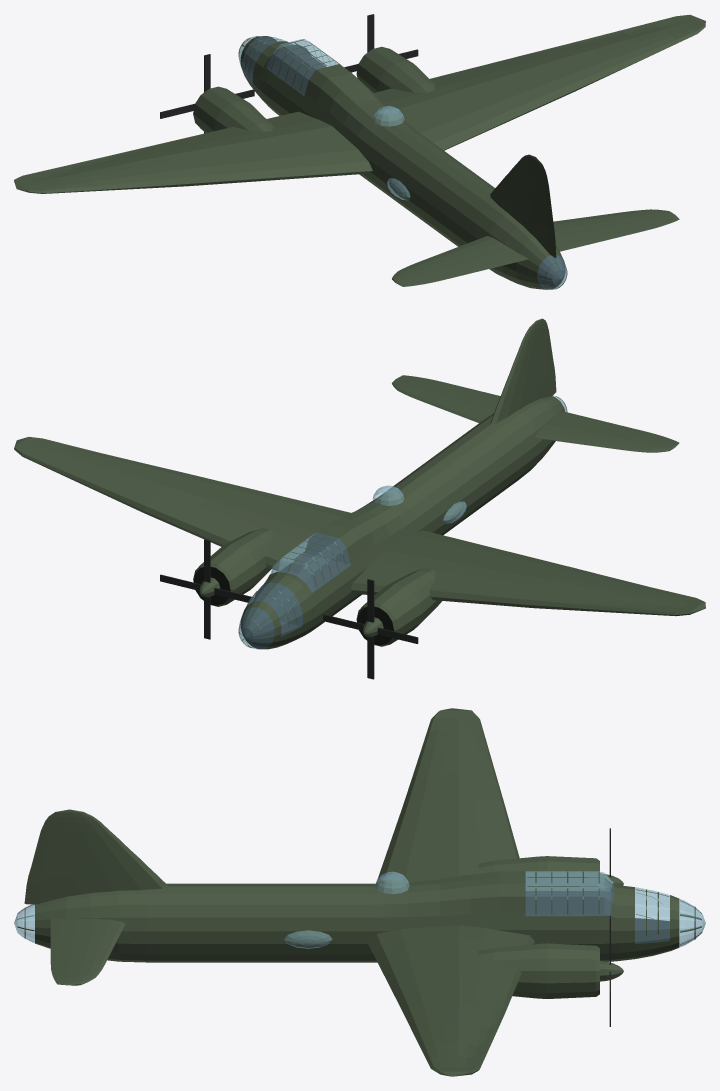
3 renders of one model, top to bottom at view 1: azimuth 30°, elevation 25°; view 2: azimuth 150°, elevation 25°; view 3: azimuth 270°, elevation 25°, orthographic. The views are drawn at different scales.
Visible parts, largest first — view 1: G4M_Wing, G4M_Fuselage, G4M_Tailplane, G4M_Fin, G4M_NacelleL, G4M_NacelleR, G4M_Canopy, G4M_TailGlass, G4M_Frames, G4M_NoseGlass2, G4M_Prop2, G4M_Turret (+1 smaller); view 2: G4M_Wing, G4M_Fuselage, G4M_Tailplane, G4M_Fin, G4M_NacelleL, G4M_NacelleR, G4M_Canopy, G4M_NoseGlass2, G4M_Prop2, G4M_Prop1, G4M_NoseGlass, G4M_Frames; view 3: G4M_Fuselage, G4M_Wing, G4M_Fin, G4M_NacelleR, G4M_Tailplane, G4M_Canopy, G4M_NacelleL, G4M_NoseGlass2, G4M_Frames, G4M_NoseGlass, G4M_BlisterR, G4M_Turret (+1 smaller).
Boxes of the visible parts, box(x1,y1,x2,y2) form: G4M_Wing: box(14, 14, 705, 193); G4M_Fuselage: box(240, 36, 565, 289); G4M_Tailplane: box(392, 209, 679, 286); G4M_Fin: box(490, 154, 556, 257); G4M_NacelleL: box(193, 86, 273, 132); G4M_NacelleR: box(356, 46, 435, 92); G4M_Canopy: box(266, 39, 338, 95); G4M_TailGlass: box(537, 255, 566, 289); G4M_Frames: box(238, 36, 567, 289); G4M_NoseGlass2: box(242, 36, 285, 83); G4M_Prop2: box(160, 54, 254, 133); G4M_Turret: box(372, 106, 404, 126); G4M_Wing: box(14, 437, 705, 616); G4M_Fuselage: box(240, 396, 565, 649); G4M_Tailplane: box(392, 375, 679, 452); G4M_Fin: box(490, 318, 556, 424); G4M_NacelleL: box(356, 567, 441, 646); G4M_NacelleR: box(193, 528, 273, 606); G4M_Canopy: box(270, 532, 350, 592); G4M_NoseGlass2: box(245, 582, 302, 636); G4M_Prop2: box(323, 579, 418, 679); G4M_Prop1: box(160, 539, 253, 639); G4M_NoseGlass: box(239, 607, 274, 649); G4M_Frames: box(238, 395, 567, 647); G4M_Fuselage: box(35, 871, 679, 962); G4M_Wing: box(366, 708, 534, 1076); G4M_Fin: box(24, 809, 168, 904); G4M_NacelleR: box(477, 943, 599, 998); G4M_Tailplane: box(50, 918, 125, 985); G4M_Canopy: box(525, 871, 613, 916); G4M_NacelleL: box(477, 856, 599, 890); G4M_NoseGlass2: box(635, 887, 669, 943); G4M_Frames: box(17, 871, 701, 944); G4M_NoseGlass: box(679, 898, 705, 947); G4M_BlisterR: box(284, 930, 331, 948); G4M_Turret: box(375, 871, 409, 894).
Bounding box in the file's own units: 24.89 × 5.42 × 19.75.
